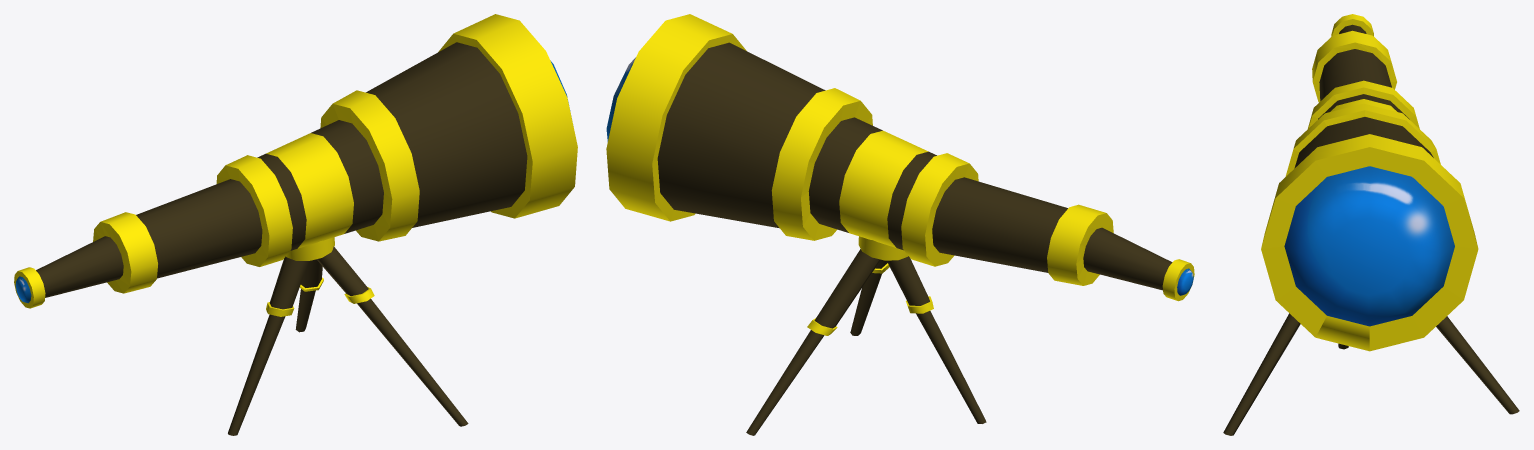
The model's file is Spyglass.FBX.
The picture shows the model from 3 angles, left to right: view 1: azimuth 30°, elevation 25°; view 2: azimuth 150°, elevation 25°; view 3: azimuth 270°, elevation 25°; orthographic projection. The views are drawn at different scales.
Visible parts, largest first — view 1: Spyglass, SpyglassBase; view 2: Spyglass, SpyglassBase; view 3: Spyglass, SpyglassBase.
Part boxes in pixels (bbox=[...]): Spyglass: bbox=[14, 14, 577, 308]; SpyglassBase: bbox=[228, 246, 468, 435]; Spyglass: bbox=[606, 14, 1194, 301]; SpyglassBase: bbox=[746, 249, 986, 435]; Spyglass: bbox=[1261, 14, 1478, 351]; SpyglassBase: bbox=[1223, 313, 1519, 435].
Size of the model in its own units: 1.56 by 0.9169 by 0.6899.
